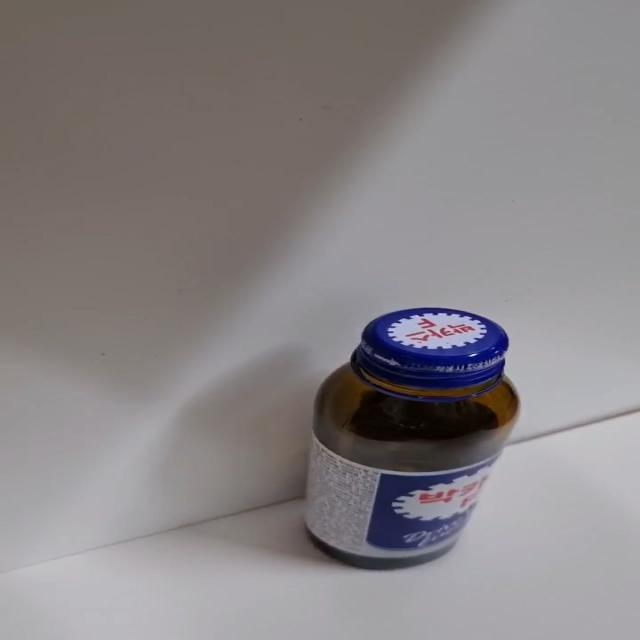Glass: (301, 307, 521, 572)
